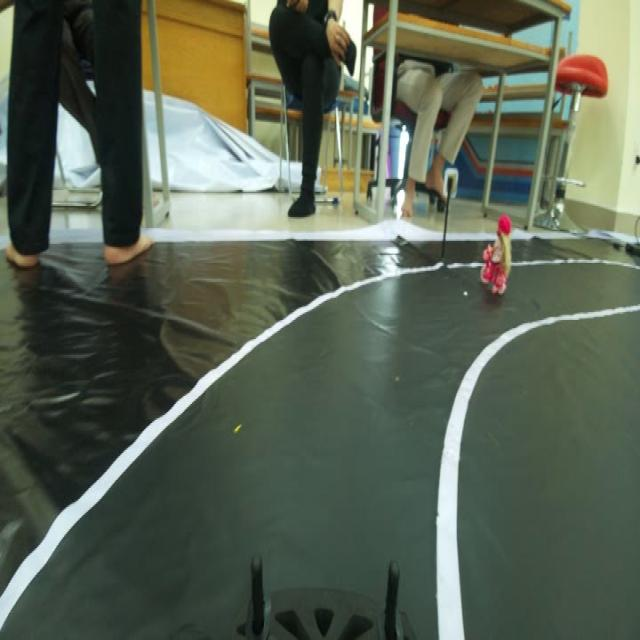pedestrian: (481, 198, 515, 301)
